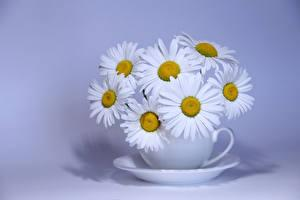chamomile: (139, 43, 193, 94), (163, 83, 211, 131), (176, 37, 242, 67), (98, 47, 146, 87), (208, 72, 253, 114), (127, 99, 161, 145), (90, 84, 128, 124)
